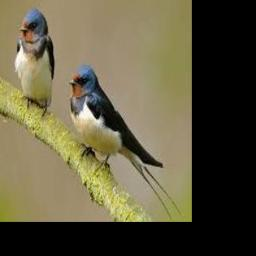Swallow: (68, 66, 180, 218), (15, 9, 55, 110)
